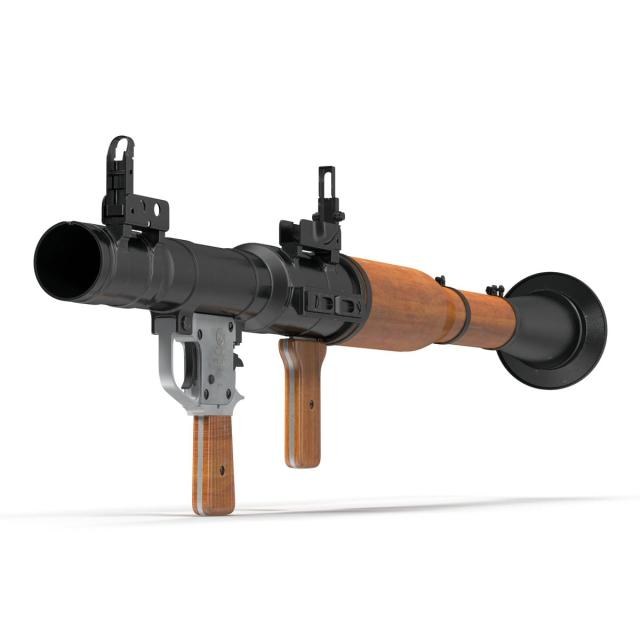Gun: (0, 116, 614, 532)
